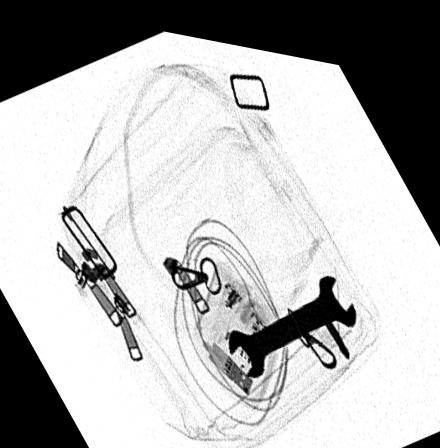Wrench: (226, 261, 356, 368)
